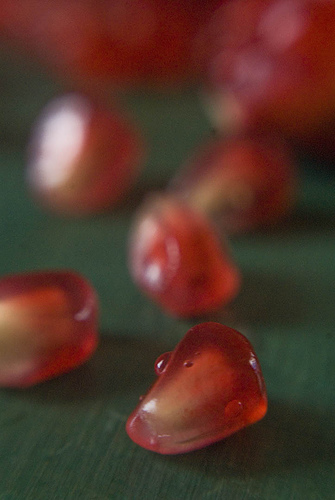pomogranate: (0, 0, 333, 456)
